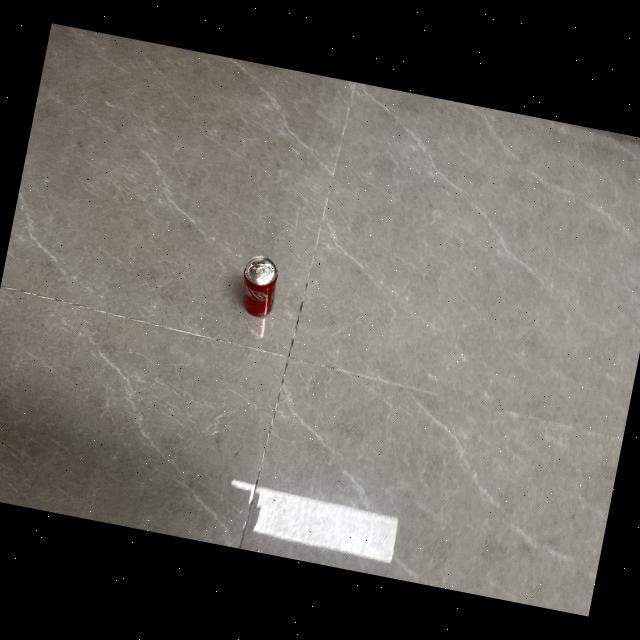Cola: (232, 250, 286, 326)
